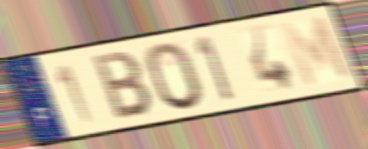1: (194, 33, 237, 104), (55, 61, 94, 125)
4: (253, 24, 297, 95)
B: (90, 49, 157, 122)
M: (277, 13, 356, 90)
O: (144, 40, 206, 113)
